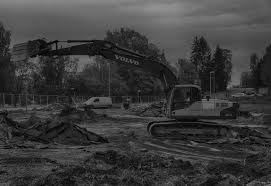excavator: (14, 36, 234, 141)
